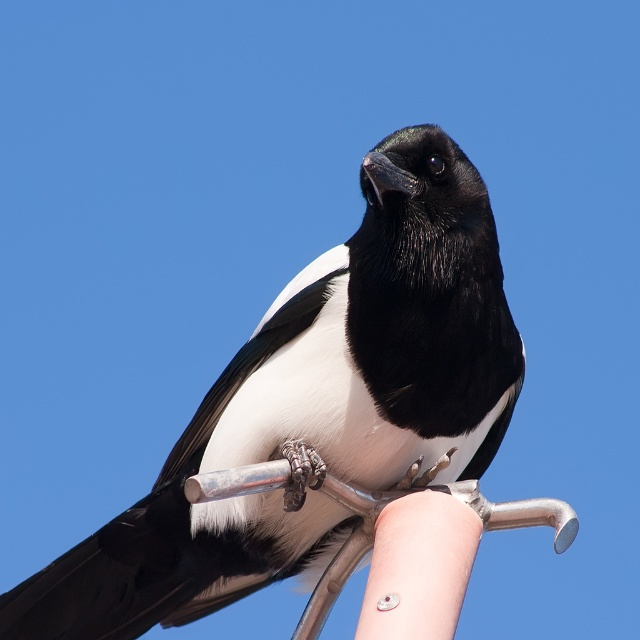Magpie: (0, 121, 530, 639)
